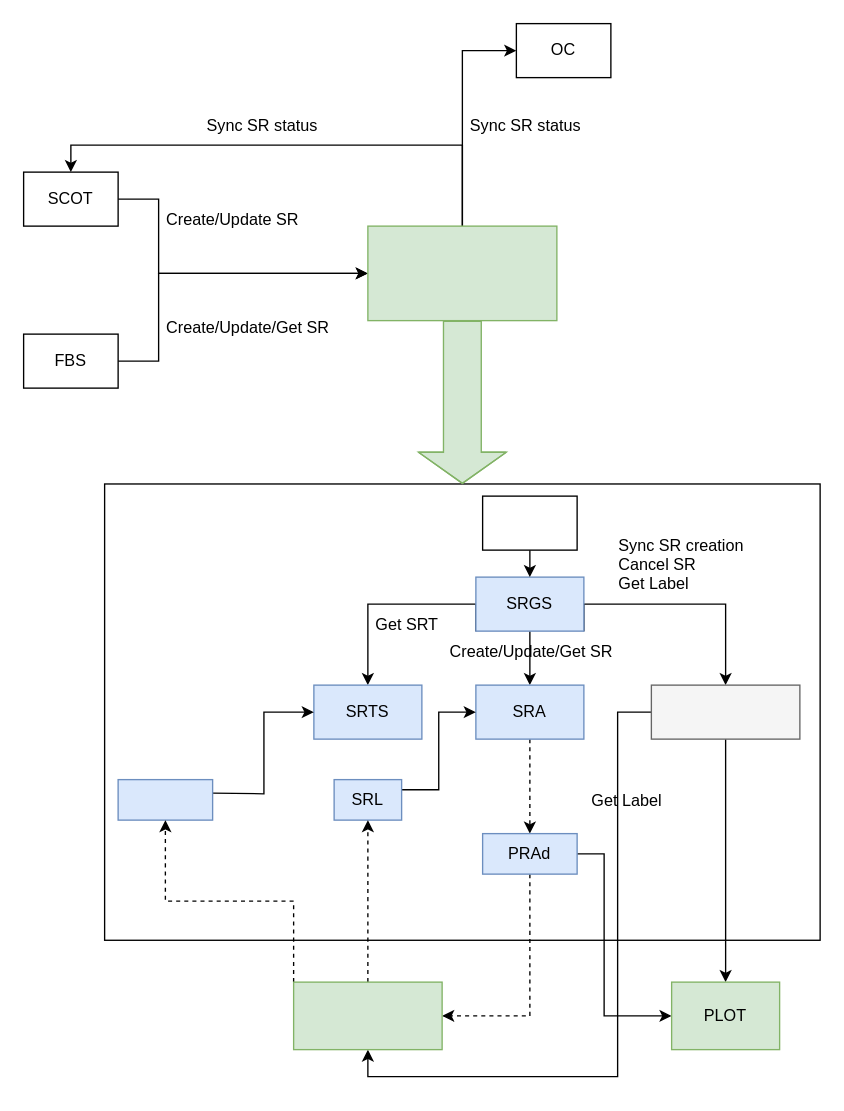
The diagram is 844 pixels wide and 1111 high, and some of its shapes have lost their labels. Here are the shapes that lost their labels. From the top down, the centre of each, then its label:
pixel 462 273: Demand
pixel 529 522: Prod Client
pixel 725 711: DemandGateway
pixel 165 799: SRTL
pixel 367 1015: Execution
